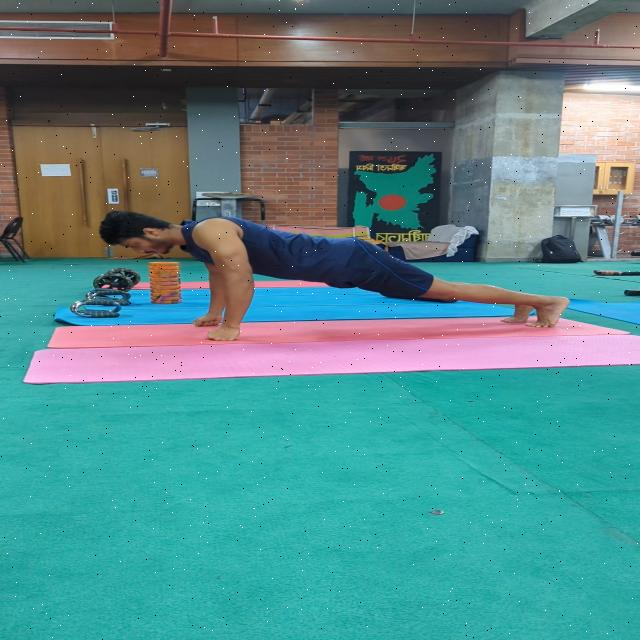Normal_PushUps: (89, 202, 578, 348)
